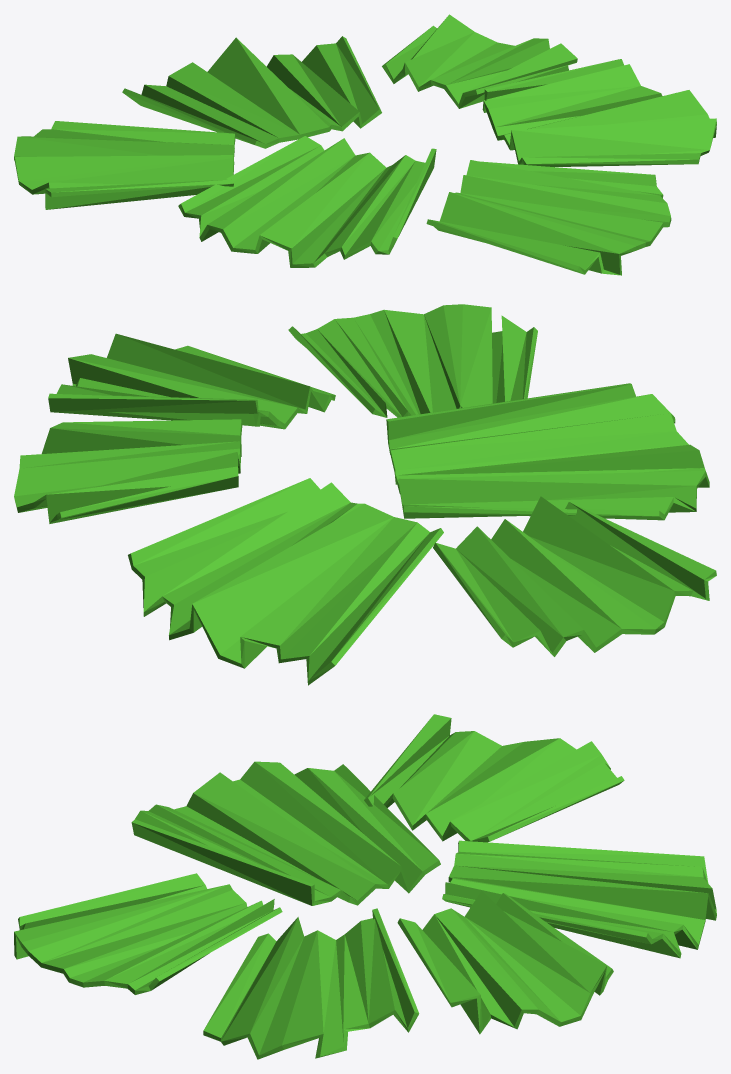
The model's file is Lettuce.obj.
The picture shows the model from 3 angles, top to bottom: view 1: azimuth 30°, elevation 25°; view 2: azimuth 150°, elevation 25°; view 3: azimuth 270°, elevation 25°; orthographic projection. The views are drawn at different scales.
Parts seen in each view (by area): view 1: Lettuce; view 2: Lettuce; view 3: Lettuce.
Boxes of the visible parts, x1,y1,x2,y2 form: Lettuce: (14, 14, 716, 275); Lettuce: (14, 304, 716, 685); Lettuce: (14, 714, 716, 1059).
Bounding box in the file's own units: 1.79 × 0.2306 × 1.68.
